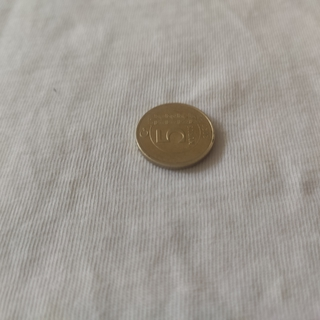5KURUS: (133, 100, 216, 170)
